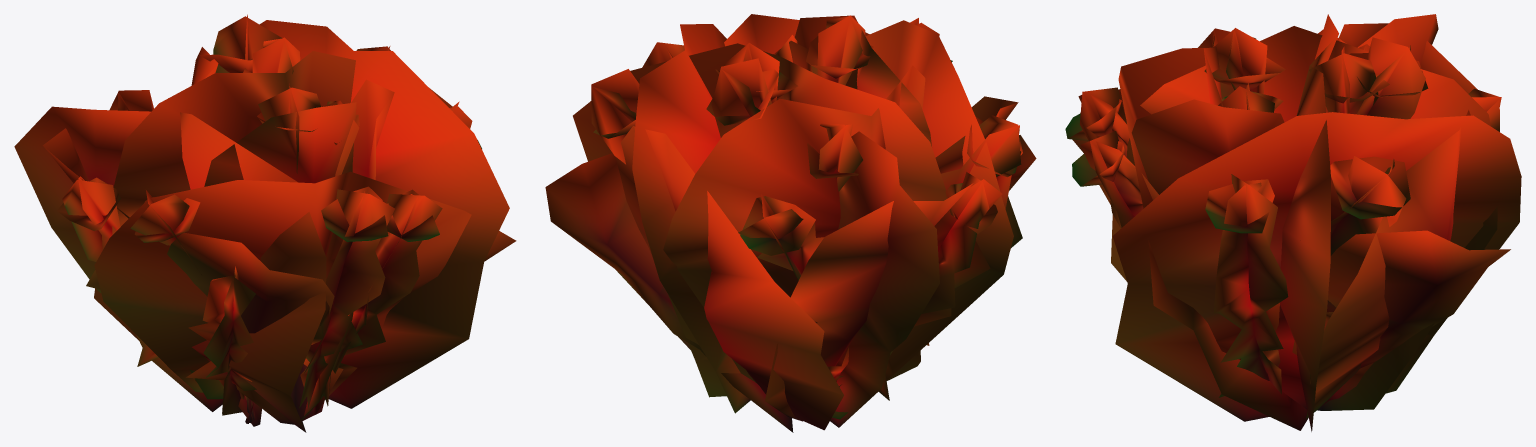
The model's file is RabbitBushRHEP_A.fbx.
3 renders of one model, left to right at view 1: azimuth 30°, elevation 25°; view 2: azimuth 150°, elevation 25°; view 3: azimuth 270°, elevation 25°, orthographic. The views are drawn at different scales.
Parts seen in each view (by area): view 1: RabbitBushRHEPA_LOD0; view 2: RabbitBushRHEPA_LOD0; view 3: RabbitBushRHEPA_LOD0.
Part boxes in pixels (<box>): RabbitBushRHEPA_LOD0: <box>14,14,516,432</box>; RabbitBushRHEPA_LOD0: <box>545,14,1036,432</box>; RabbitBushRHEPA_LOD0: <box>1065,14,1521,431</box>.
Size of what is drawn, in the model's own units: 2.04 by 1.73 by 1.93.
